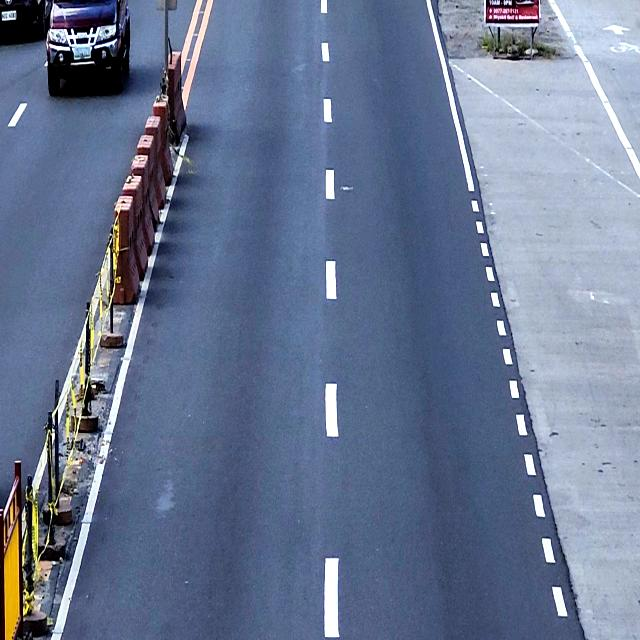Car: (45, 0, 131, 95), (0, 0, 53, 43)
License-Plate: (72, 46, 92, 59), (1, 10, 18, 22)
